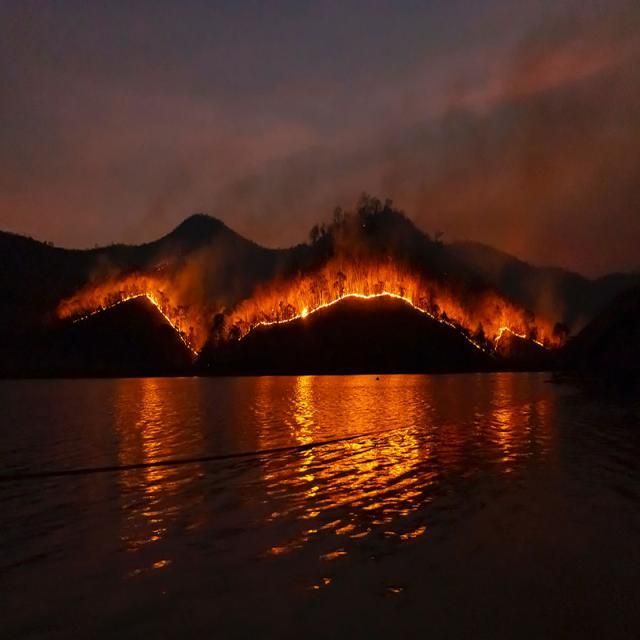Fire: (58, 252, 579, 370)
Smoke: (410, 3, 640, 277)
